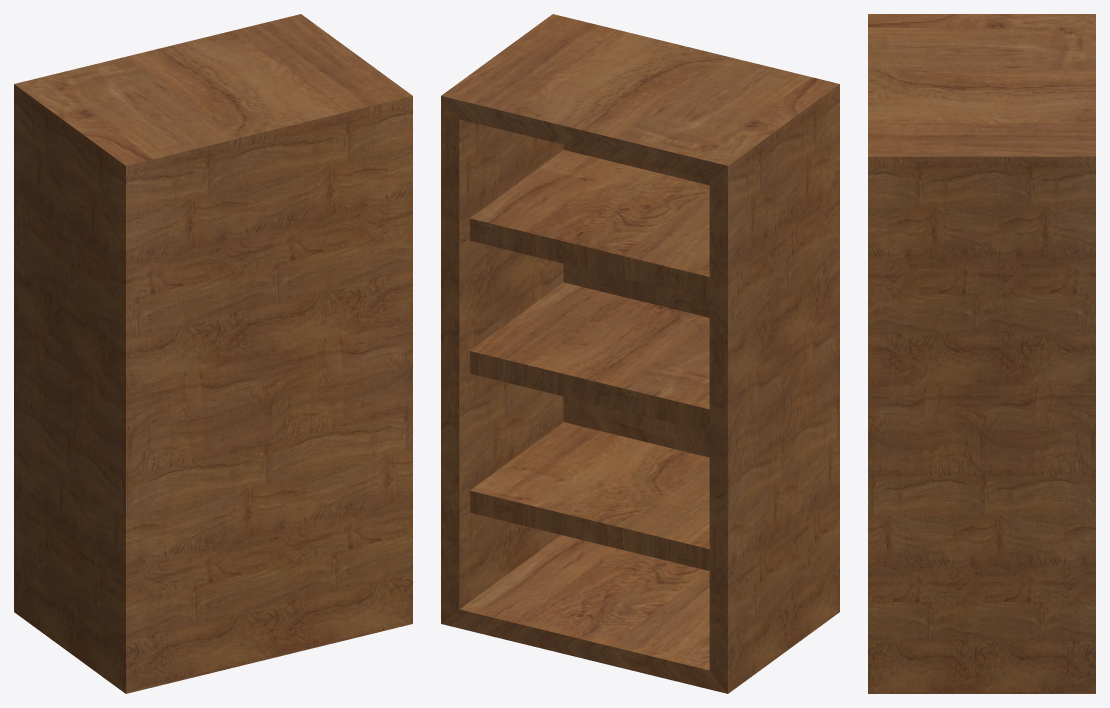
Rendered from Armário_Madeira_Escura.fbx.
The picture shows the model from 3 angles, left to right: view 1: azimuth 30°, elevation 25°; view 2: azimuth 150°, elevation 25°; view 3: azimuth 270°, elevation 25°; orthographic projection.
Visible parts, largest first — view 1: pCube16; view 2: pCube16; view 3: pCube16.
Part boxes in pixels (box(x1,y1,x2,y2)): pCube16: box(14, 14, 412, 693); pCube16: box(441, 14, 839, 693); pCube16: box(868, 14, 1095, 693).
Bounding box in the file's own units: 2 × 3.52 × 1.35.
